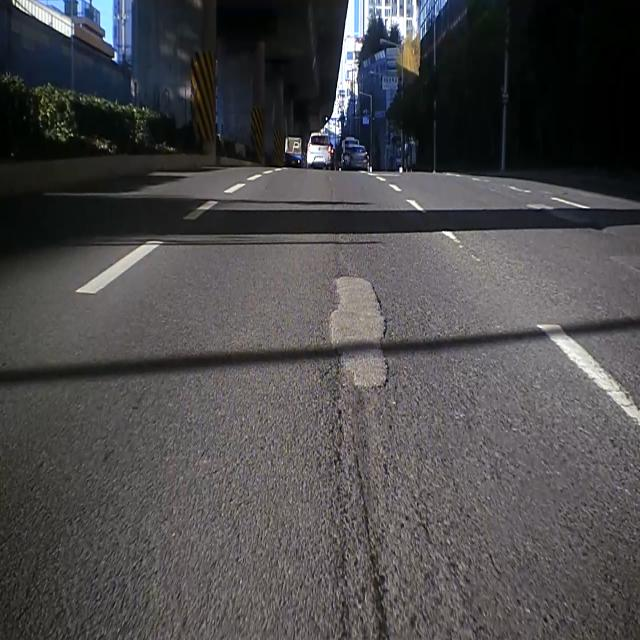Pothole: (366, 549, 396, 640)
